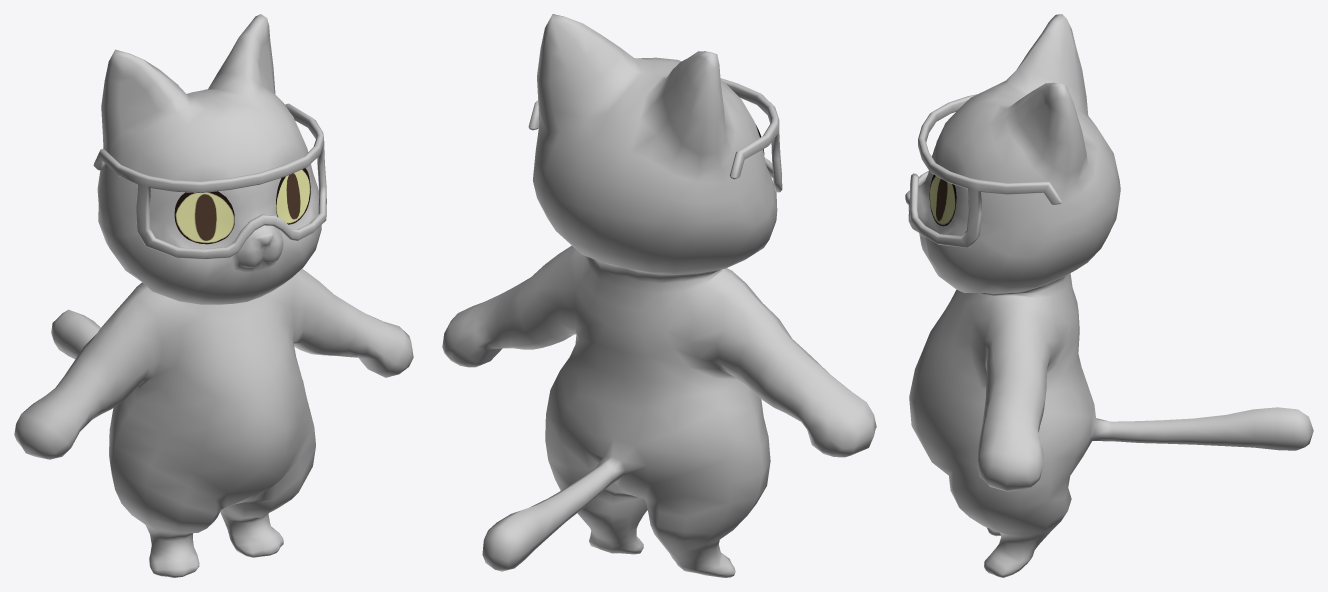
Rendered from Carpenter.fbx.
3 renders of one model, left to right at view 1: azimuth 30°, elevation 25°; view 2: azimuth 150°, elevation 25°; view 3: azimuth 270°, elevation 25°, orthographic. The views are drawn at different scales.
Parts seen in each view (by area): view 1: Carpenter, Carpenter_Eye; view 2: Carpenter; view 3: Carpenter, Carpenter_Eye.
Part boxes in pixels (box(x1,y1,x2,y2)): Carpenter: box(14, 14, 413, 577); Carpenter_Eye: box(174, 168, 310, 244); Carpenter: box(442, 14, 876, 577); Carpenter: box(905, 14, 1313, 577); Carpenter_Eye: box(929, 148, 956, 226).
Size of the model in its own units: 176 by 219 by 162.
